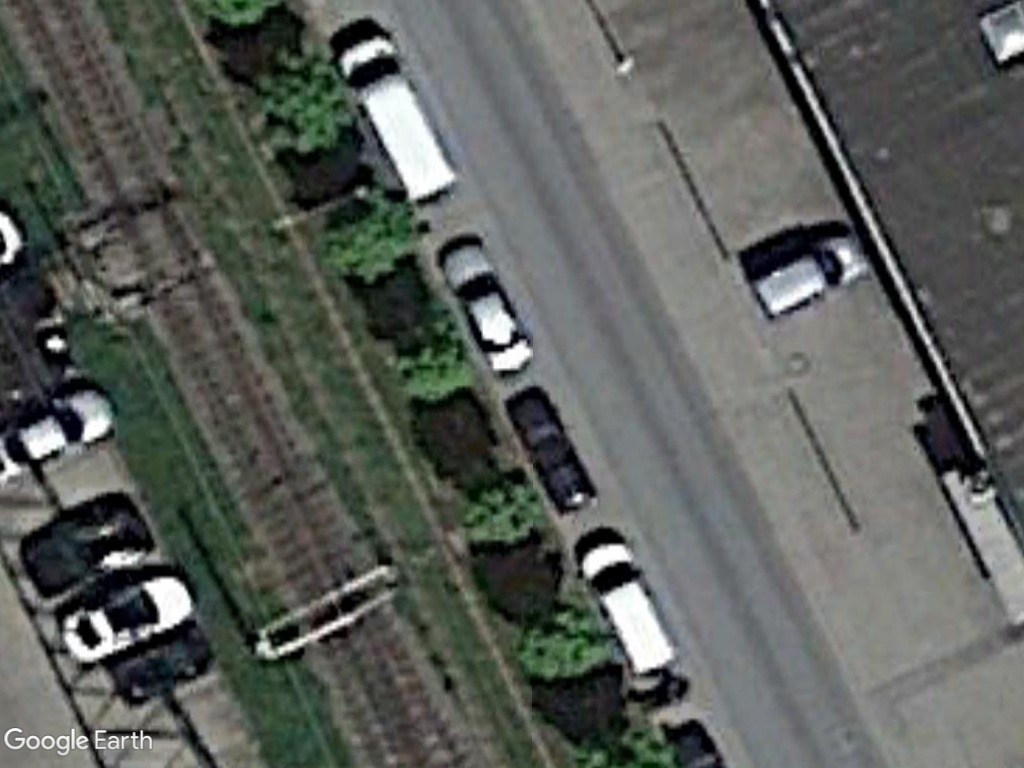car: (55, 567, 197, 671), (442, 237, 537, 379), (751, 231, 865, 325)
van: (334, 28, 462, 211), (579, 535, 681, 687)
